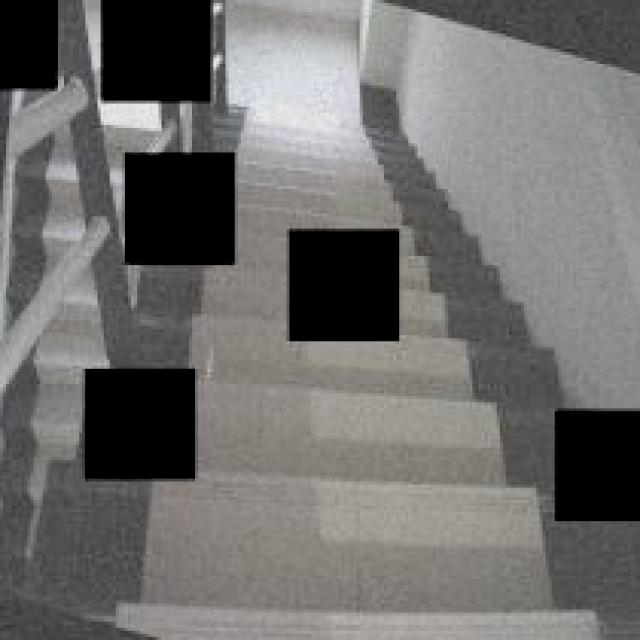downstair: (236, 376, 547, 640)
